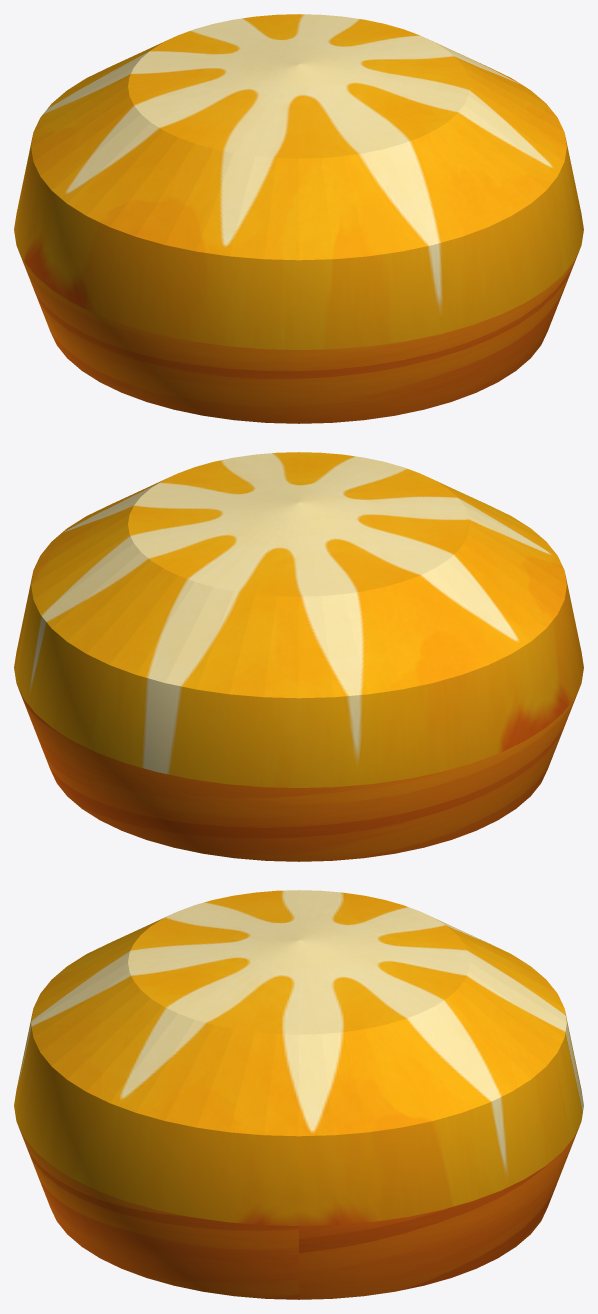
File: sun_seed-CsvQH23i.glb
The picture shows the model from 3 angles, top to bottom: view 1: azimuth 30°, elevation 25°; view 2: azimuth 150°, elevation 25°; view 3: azimuth 270°, elevation 25°; orthographic projection.
Visible parts, largest first — view 1: HI_sun_seed; view 2: HI_sun_seed; view 3: HI_sun_seed.
Boxes of the visible parts, x1,y1,x2,y2 form: HI_sun_seed: [14, 14, 583, 423]; HI_sun_seed: [14, 452, 583, 861]; HI_sun_seed: [14, 890, 583, 1299].
Size of the model in its own units: 0.3 by 0.16 by 0.3.
Materials: 1 (1 with a texture image).
